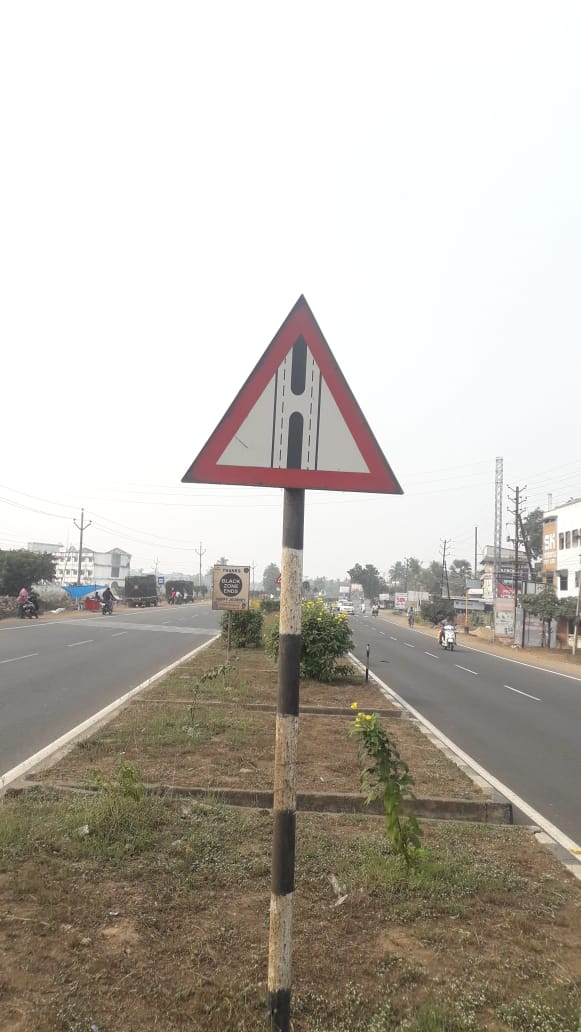highway go straight: (167, 276, 447, 551)
